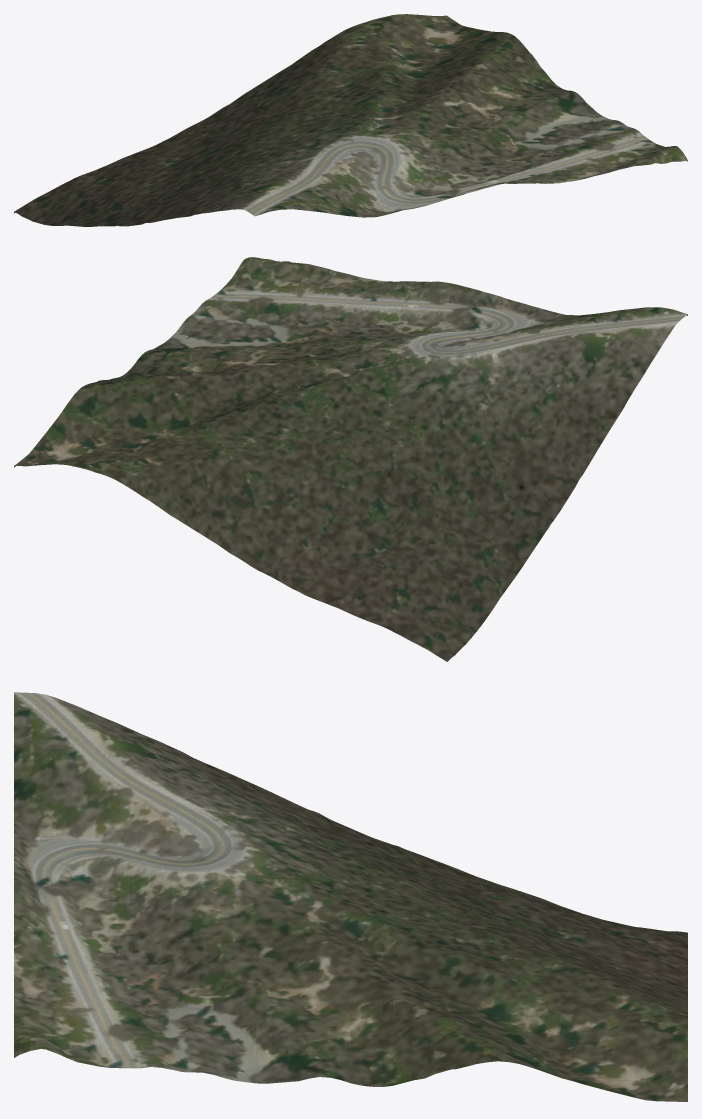
3 renders of one model, top to bottom at view 1: azimuth 30°, elevation 25°; view 2: azimuth 150°, elevation 25°; view 3: azimuth 270°, elevation 25°, orthographic. The views are drawn at different scales.
Size of the model in its own units: 250 by 96.23 by 241.
Materials: 1 (1 with a texture image).
